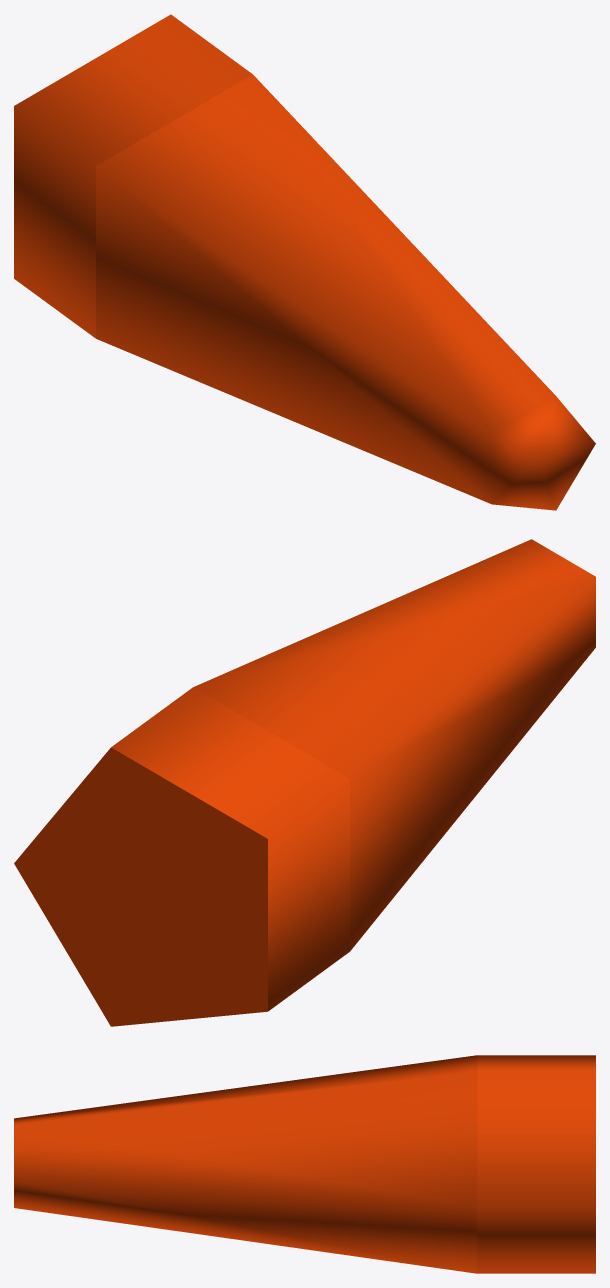
Rendered from pro_standard.fbx.
3 renders of one model, top to bottom at view 1: azimuth 30°, elevation 25°; view 2: azimuth 150°, elevation 25°; view 3: azimuth 270°, elevation 25°, orthographic. The views are drawn at different scales.
Parts seen in each view (by area): view 1: pro_standard; view 2: pro_standard; view 3: pro_standard.
Part boxes in pixels (<box>): pro_standard: <box>14,14,595,510</box>; pro_standard: <box>14,539,595,1026</box>; pro_standard: <box>14,1055,595,1273</box>.
Bounding box in the file's own units: 8.62 × 9.06 × 23.69.
